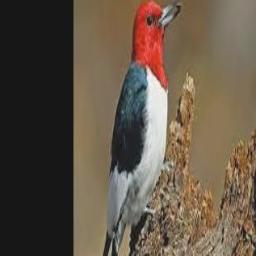Woodpecker: (100, 0, 181, 256)
